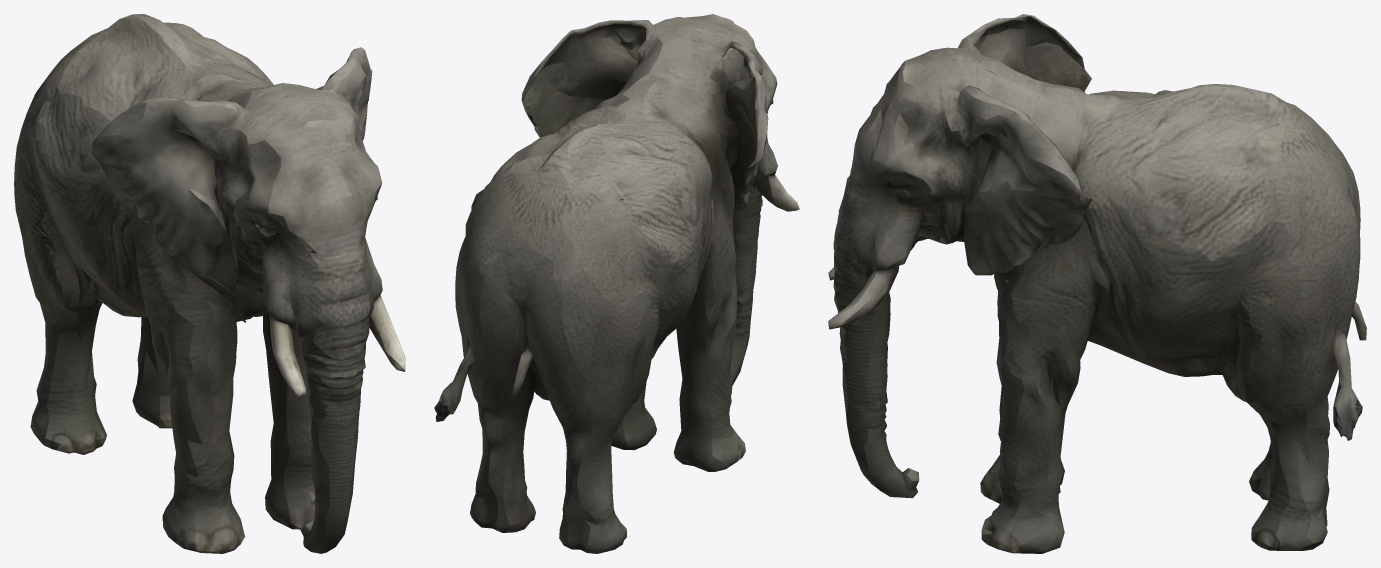
3 renders of one model, left to right at view 1: azimuth 30°, elevation 25°; view 2: azimuth 150°, elevation 25°; view 3: azimuth 270°, elevation 25°, orthographic. The views are drawn at different scales.
Parts seen in each view (by area): view 1: geometry_0; view 2: geometry_0; view 3: geometry_0.
Boxes of the visible parts, x1,y1,x2,y2 form: geometry_0: [14, 14, 405, 553]; geometry_0: [434, 14, 799, 553]; geometry_0: [828, 14, 1366, 553].
Size of the model in its own units: 6 by 9.61 by 10.23.
Materials: 1 (1 with a texture image).
